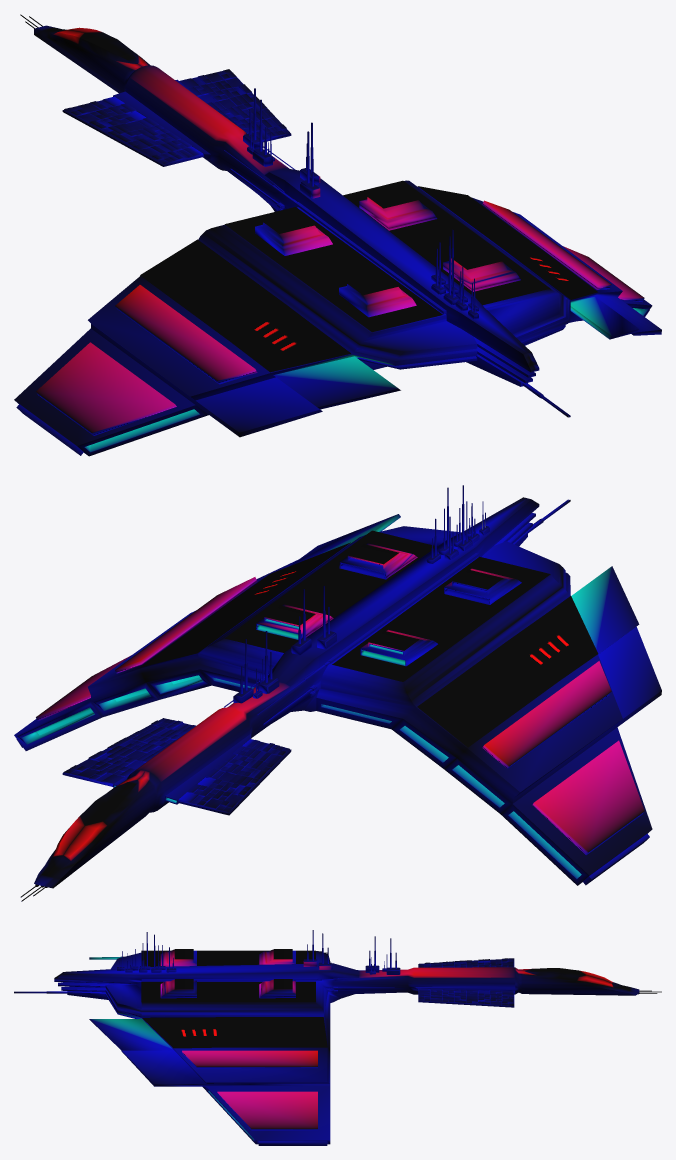
File: ad_cruiser_02.fbx
3 renders of one model, top to bottom at view 1: azimuth 30°, elevation 25°; view 2: azimuth 150°, elevation 25°; view 3: azimuth 270°, elevation 25°, orthographic. The views are drawn at different scales.
Visible parts, largest first — view 1: ad_cruiser_02; view 2: ad_cruiser_02; view 3: ad_cruiser_02.
Part boxes in pixels (box(x1,y1,x2,y2)): ad_cruiser_02: box(14, 14, 661, 456); ad_cruiser_02: box(14, 485, 661, 901); ad_cruiser_02: box(14, 930, 661, 1145).
Size of the model in its own units: 3954 by 1469 by 6524.
